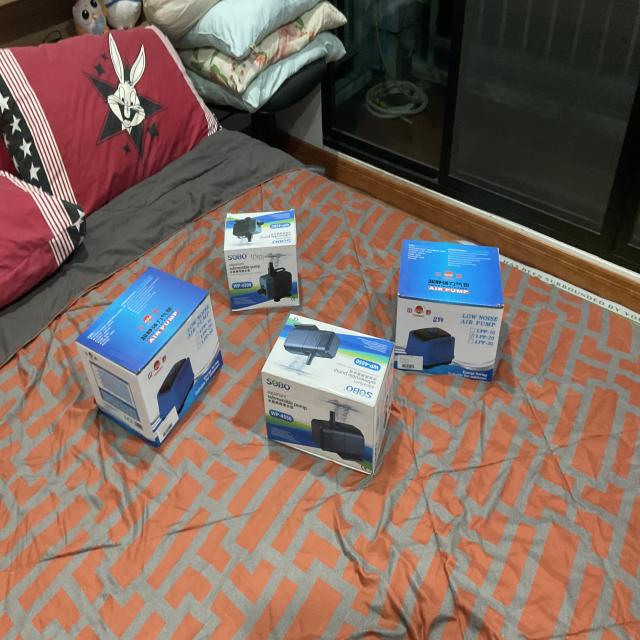SOBO_WP_4200: (255, 296, 408, 488), (212, 188, 310, 316)
YAMANO_LPP_20: (74, 249, 229, 458), (386, 232, 539, 396)
